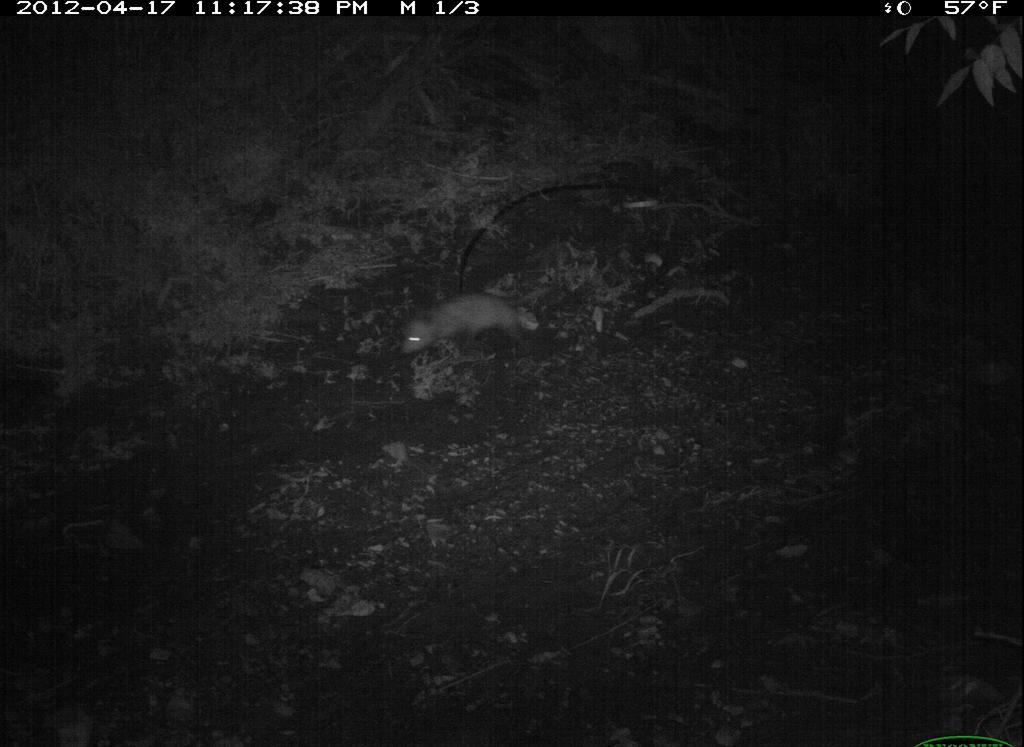opossum: (391, 276, 596, 367)
